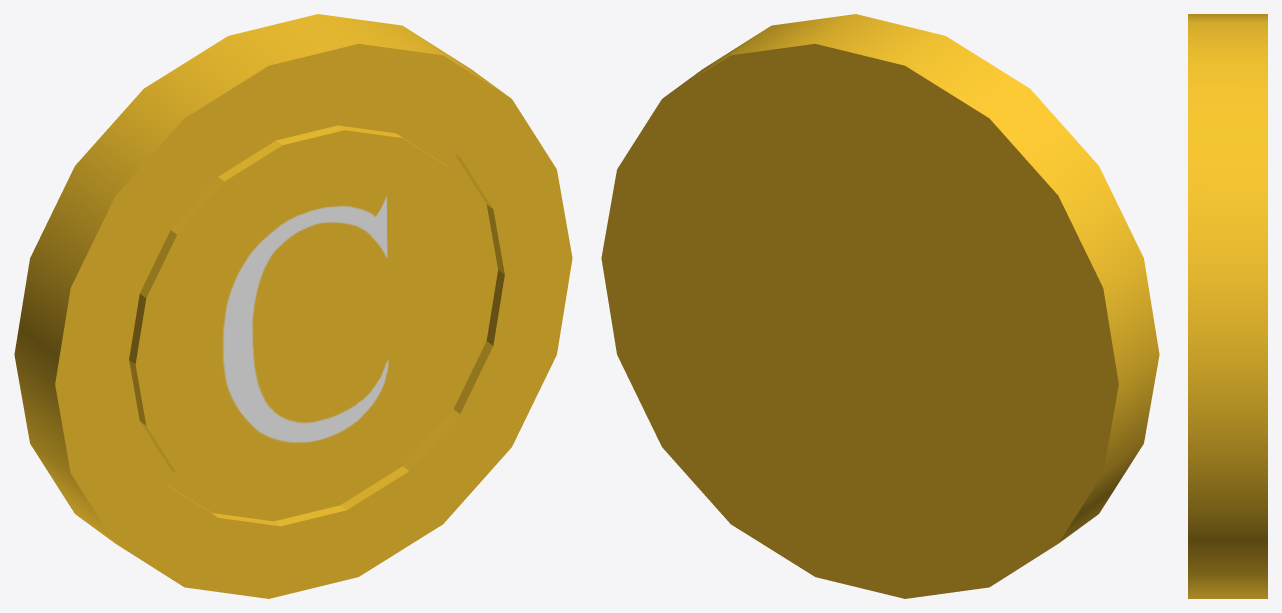
Rendered from coin.FBX.
3 renders of one model, left to right at view 1: azimuth 30°, elevation 25°; view 2: azimuth 150°, elevation 25°; view 3: azimuth 270°, elevation 25°, orthographic.
Visible parts, largest first — view 1: Cylinder002; view 2: Cylinder002; view 3: Cylinder002.
Part boxes in pixels (x1,y1,x2,y2): Cylinder002: [14, 14, 572, 598]; Cylinder002: [601, 14, 1159, 598]; Cylinder002: [1188, 14, 1267, 598].
Size of the model in its own units: 28.44 by 28.01 by 3.87.
1 material, 1 textured.
